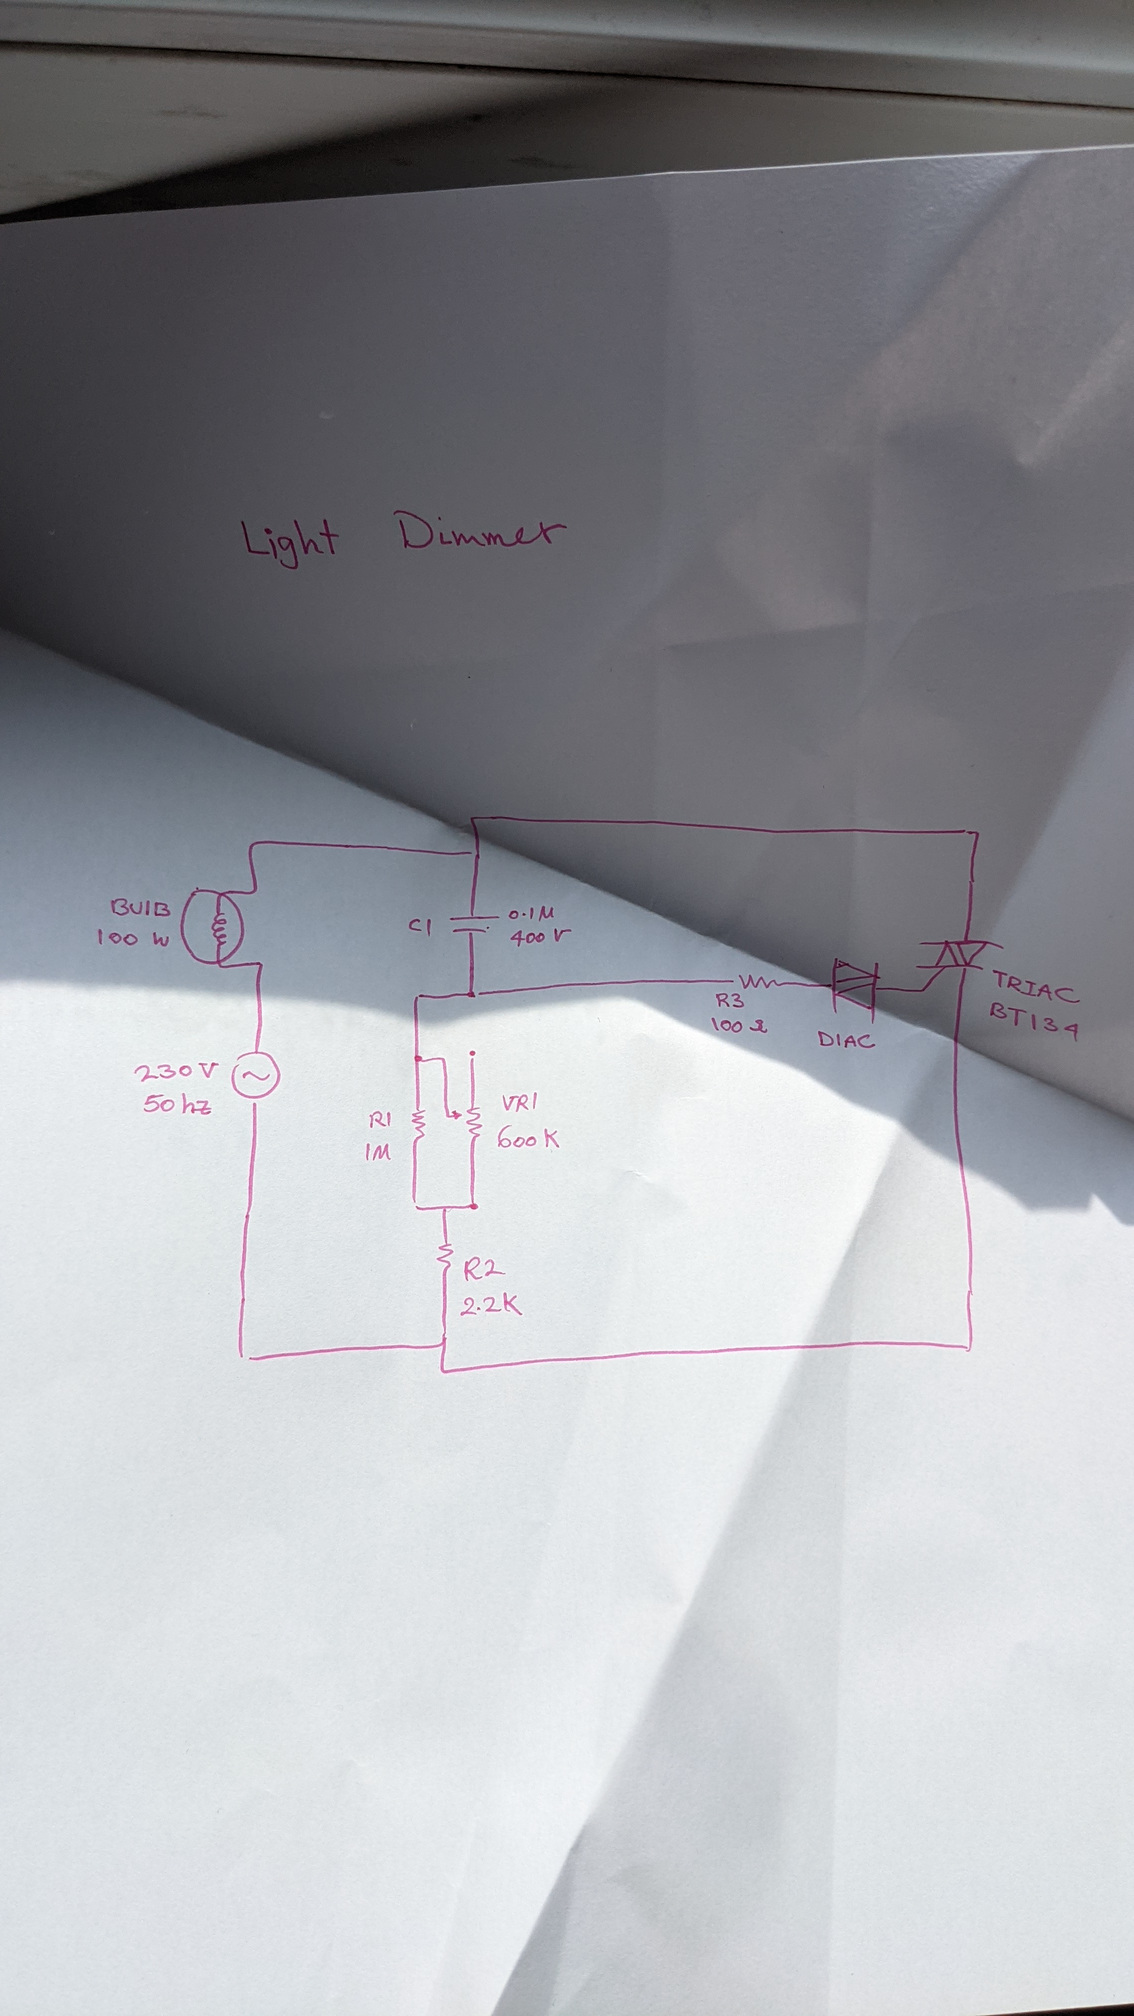capacitor.unpolarized: (447, 911, 503, 937)
diac: (827, 955, 882, 1027)
junction: (960, 824, 984, 839), (234, 1349, 256, 1365), (246, 835, 264, 853), (467, 846, 485, 861), (465, 1047, 482, 1062), (436, 1333, 451, 1350), (961, 1340, 978, 1356), (464, 987, 483, 1000), (467, 1198, 480, 1213), (912, 986, 926, 1001), (408, 1196, 421, 1212), (438, 1202, 453, 1214), (438, 1362, 450, 1378), (410, 990, 424, 1002), (253, 957, 267, 969), (467, 811, 479, 824), (411, 1052, 425, 1063), (436, 1052, 449, 1063), (248, 885, 260, 896)
lamp: (177, 883, 246, 971)
resistor: (728, 971, 784, 991), (433, 1236, 457, 1275), (408, 1106, 431, 1144)
resistor.adjustable: (442, 1104, 486, 1142)
text: (237, 508, 569, 573), (987, 1000, 1080, 1045), (990, 966, 1081, 1004), (141, 1088, 215, 1117), (456, 1290, 526, 1320), (132, 1061, 222, 1083), (496, 1122, 564, 1151), (96, 926, 172, 951), (108, 894, 174, 919), (507, 928, 575, 948), (816, 1029, 878, 1051), (462, 1254, 508, 1282), (710, 1015, 770, 1036), (505, 904, 557, 924), (501, 1088, 539, 1115), (363, 1140, 395, 1164), (366, 1108, 395, 1131), (406, 917, 435, 940), (714, 991, 748, 1009)
triac: (908, 937, 1002, 983)
voltage.dc_ac: (228, 1047, 282, 1108)
